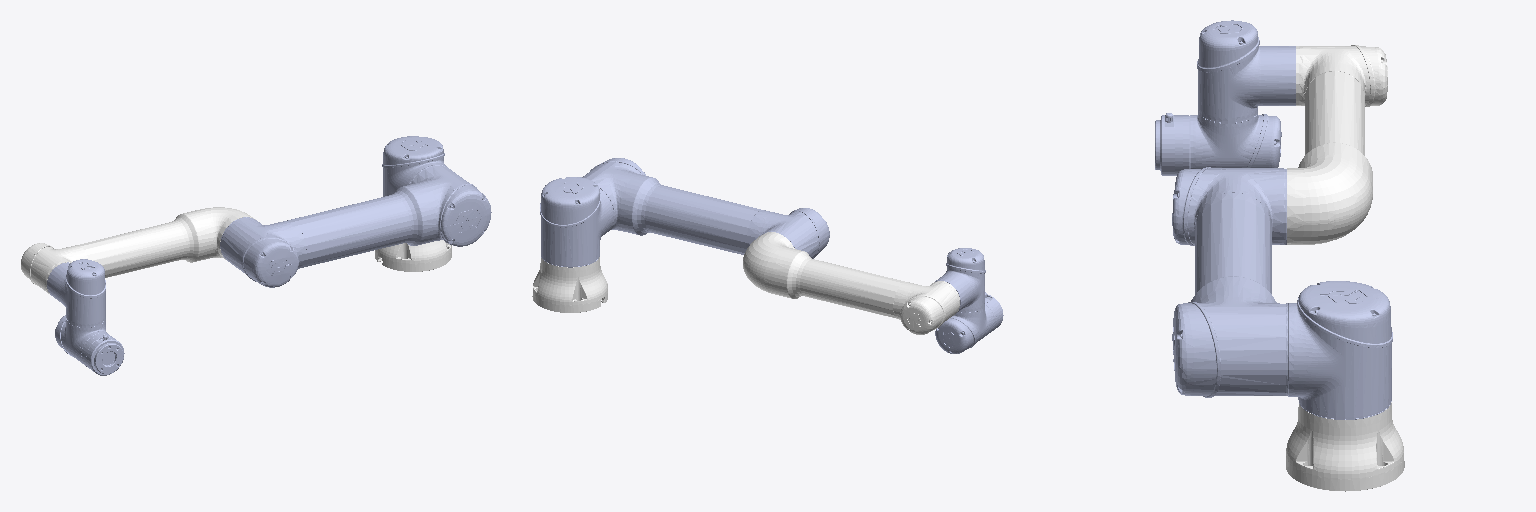
robot.urdf — cs66_arm_description:
<?xml version="1.0" encoding="utf-8" ?>
<!-- This URDF was automatically created by SolidWorks to URDF Exporter! Originally created by Stephen Brawner (brawner@gmail.com) 
     Commit Version: 1.6.0-4-g7f85cfe  Build Version: 1.6.7995.38578
     For more information, please see http://wiki.ros.org/sw_urdf_exporter -->
<robot name="cs66_arm_description">
    <link name="base_link">
        <inertial>
            <origin xyz="0.000819468476140757 -0.000383331154322179 0.0602207031159537" rpy="0 0 0" />
            <mass value="0.571272633732224" />
            <inertia ixx="0.00107590375281414" ixy="7.51573344437863E-08" ixz="-1.32176933719106E-05" iyy="0.0010108603582184" iyz="4.56446618386002E-07" izz="0.00140801940459219" />
        </inertial>
        <visual>
            <origin xyz="0 0 0" rpy="0 0 0" />
            <geometry>
                <mesh filename="package://cs66_arm_description/meshes/base_link.STL" />
            </geometry>
            <material name="">
                <color rgba="1 1 1 1" />
            </material>
        </visual>
        <collision>
            <origin xyz="0 0 0" rpy="0 0 0" />
            <geometry>
                <mesh filename="package://cs66_arm_description/meshes/base_link.STL" />
            </geometry>
        </collision>
    </link>
    <link name="Link_1">
        <inertial>
            <origin xyz="-5.44817498106031E-06 -0.00772422182270346 0.0673914563996951" rpy="0 0 0" />
            <mass value="1.79218632427574" />
            <inertia ixx="0.00486412365192174" ixy="-4.76280041712477E-08" ixz="6.02229532119392E-07" iyy="0.00450066793287147" iyz="4.41397887471483E-05" izz="0.00366028536387867" />
        </inertial>
        <visual>
            <origin xyz="0 0 0" rpy="0 0 0" />
            <geometry>
                <mesh filename="package://cs66_arm_description/meshes/Link_1.STL" />
            </geometry>
            <material name="">
                <color rgba="0.792156862745098 0.819607843137255 0.933333333333333 1" />
            </material>
        </visual>
        <collision>
            <origin xyz="0 0 0" rpy="0 0 0" />
            <geometry>
                <mesh filename="package://cs66_arm_description/meshes/Link_1.STL" />
            </geometry>
        </collision>
    </link>
    <joint name="joint_1" type="continuous">
        <origin xyz="0.00142315112976313 -0.000397461372316405 0.0959999923210443" rpy="0 0 0" />
        <parent link="base_link" />
        <child link="Link_1" />
        <axis xyz="0 0 1" />
    </joint>
    <link name="Link_2">
        <inertial>
            <origin xyz="-0.189304749779043 4.12457812803968E-06 0.0673436646185289" rpy="0 0 0" />
            <mass value="5.26083251074483" />
            <inertia ixx="0.00986127044062744" ixy="-1.96188156562952E-06" ixz="0.000398582240348831" iyy="0.150013165511853" iyz="-4.28700825556125E-07" izz="0.147760972442848" />
        </inertial>
        <visual>
            <origin xyz="0 0 0" rpy="0 0 0" />
            <geometry>
                <mesh filename="package://cs66_arm_description/meshes/Link_2.STL" />
            </geometry>
            <material name="">
                <color rgba="0.792156862745098 0.819607843137255 0.933333333333333 1" />
            </material>
        </visual>
        <collision>
            <origin xyz="0 0 0" rpy="0 0 0" />
            <geometry>
                <mesh filename="package://cs66_arm_description/meshes/Link_2.STL" />
            </geometry>
        </collision>
    </link>
    <joint name="joint_2" type="continuous">
        <origin xyz="0 -0.0744999923210443 0.0665000000000001" rpy="1.5707963267949 0 0" />
        <parent link="Link_1" />
        <child link="Link_2" />
        <axis xyz="0 0 1" />
    </joint>
    <link name="Link_3">
        <inertial>
            <origin xyz="-0.182694891807572 2.46133946837923E-06 -0.0583572427029055" rpy="0 0 0" />
            <mass value="2.7291609666202" />
            <inertia ixx="0.00305708688537011" ixy="-1.12586051820532E-06" ixz="-0.00265416681508017" iyy="0.0588372414004559" iyz="9.21680134133082E-08" izz="0.0582264071329576" />
        </inertial>
        <visual>
            <origin xyz="0 0 0" rpy="0 0 0" />
            <geometry>
                <mesh filename="package://cs66_arm_description/meshes/Link_3.STL" />
            </geometry>
            <material name="">
                <color rgba="1 1 1 1" />
            </material>
        </visual>
        <collision>
            <origin xyz="0 0 0" rpy="0 0 0" />
            <geometry>
                <mesh filename="package://cs66_arm_description/meshes/Link_3.STL" />
            </geometry>
        </collision>
    </link>
    <joint name="joint_3" type="continuous">
        <origin xyz="-0.427 0 -0.000700000000000062" rpy="0 0 0" />
        <parent link="Link_2" />
        <child link="Link_3" />
        <axis xyz="0 0 -1" />
    </joint>
    <link name="Link_4">
        <inertial>
            <origin xyz="1.78181839216585E-06 0.00475921552085332 0.0664196029768327" rpy="0 0 0" />
            <mass value="0.751687617432452" />
            <inertia ixx="0.00142457870934458" ixy="-8.98336116714318E-08" ixz="-1.84239576005656E-08" iyy="0.00107758626595783" iyz="-5.88720985481688E-05" izz="0.000907375014852144" />
        </inertial>
        <visual>
            <origin xyz="0 0 0" rpy="0 0 0" />
            <geometry>
                <mesh filename="package://cs66_arm_description/meshes/Link_4.STL" />
            </geometry>
            <material name="">
                <color rgba="0.792156862745098 0.819607843137255 0.933333333333333 1" />
            </material>
        </visual>
        <collision>
            <origin xyz="0 0 0" rpy="0 0 0" />
            <geometry>
                <mesh filename="package://cs66_arm_description/meshes/Link_4.STL" />
            </geometry>
        </collision>
    </link>
    <joint name="joint_4" type="continuous">
        <origin xyz="-0.3905 0 -0.0118000000000002" rpy="0 0 0" />
        <parent link="Link_3" />
        <child link="Link_4" />
        <axis xyz="0 0 -1" />
    </joint>
    <link name="Link_5">
        <inertial>
            <origin xyz="-2.69080810966216E-06 -0.00617558030727594 0.0425309128156526" rpy="0 0 0" />
            <mass value="0.579305281070416" />
            <inertia ixx="0.000833552143214783" ixy="-8.65440171172211E-08" ixz="-3.35593094932508E-09" iyy="0.000491632907771888" iyz="8.38962008905905E-06" izz="0.000777854785881557" />
        </inertial>
        <visual>
            <origin xyz="0 0 0" rpy="0 0 0" />
            <geometry>
                <mesh filename="package://cs66_arm_description/meshes/Link_5.STL" />
            </geometry>
            <material name="">
                <color rgba="0.792156862745098 0.819607843137255 0.933333333333333 1" />
            </material>
        </visual>
        <collision>
            <origin xyz="0 0 0" rpy="0 0 0" />
            <geometry>
                <mesh filename="package://cs66_arm_description/meshes/Link_5.STL" />
            </geometry>
        </collision>
    </link>
    <joint name="joint_5" type="continuous">
        <origin xyz="0 -0.0490000000000001 0.0854999999999999" rpy="1.5707963267949 0 0" />
        <parent link="Link_4" />
        <child link="Link_5" />
        <axis xyz="0 0 -1" />
    </joint>
    <link name="Link_6">
        <inertial>
            <origin xyz="-1.62861057972918E-10 -0.000150247411436794 0.0198932547747776" rpy="0 0 0" />
            <mass value="0.178606323427537" />
            <inertia ixx="8.73395638411235E-05" ixy="7.66356443266492E-13" ixz="5.92450494701795E-13" iyy="8.81103451063962E-05" iyz="2.1464395295935E-07" izz="0.000126746769992653" />
        </inertial>
        <visual>
            <origin xyz="0 0 0" rpy="0 0 0" />
            <geometry>
                <mesh filename="package://cs66_arm_description/meshes/Link_6.STL" />
            </geometry>
            <material name="">
                <color rgba="0.792156862745098 0.819607843137255 0.933333333333333 1" />
            </material>
        </visual>
        <collision>
            <origin xyz="0 0 0" rpy="0 0 0" />
            <geometry>
                <mesh filename="package://cs66_arm_description/meshes/Link_6.STL" />
            </geometry>
        </collision>
    </link>
    <joint name="joint_6" type="continuous">
        <origin xyz="0 0.049 0.0475" rpy="-1.5707963267949 0 0" />
        <parent link="Link_5" />
        <child link="Link_6" />
        <axis xyz="0 0 -1" />
    </joint>
    <link name="ee_link" />
    <joint name="joint_ee_fixed" type="fixed">
        <origin xyz="0 0 -0.03" rpy="0 0 0" />
        <parent link="Link_6" />
        <child link="ee_link" />
    </joint>
    <transmission name="trans_joint_1">
        <type>transmission_interface/SimpleTransmission</type>
        <joint name="joint_1">
            <hardwareInterface>hardware_interface/EffortJointInterface</hardwareInterface>
        </joint>
        <actuator name="joint_1_motor">
            <hardwareInterface>hardware_interface/EffortJointInterface</hardwareInterface>
            <mechanicalReduction>1</mechanicalReduction>
        </actuator>
    </transmission>
    <transmission name="trans_joint_2">
        <type>transmission_interface/SimpleTransmission</type>
        <joint name="joint_2">
            <hardwareInterface>hardware_interface/EffortJointInterface</hardwareInterface>
        </joint>
        <actuator name="joint_2_motor">
            <hardwareInterface>hardware_interface/EffortJointInterface</hardwareInterface>
            <mechanicalReduction>1</mechanicalReduction>
        </actuator>
    </transmission>
    <transmission name="trans_joint_3">
        <type>transmission_interface/SimpleTransmission</type>
        <joint name="joint_3">
            <hardwareInterface>hardware_interface/EffortJointInterface</hardwareInterface>
        </joint>
        <actuator name="joint_3_motor">
            <hardwareInterface>hardware_interface/EffortJointInterface</hardwareInterface>
            <mechanicalReduction>1</mechanicalReduction>
        </actuator>
    </transmission>
    <transmission name="trans_joint_4">
        <type>transmission_interface/SimpleTransmission</type>
        <joint name="joint_4">
            <hardwareInterface>hardware_interface/EffortJointInterface</hardwareInterface>
        </joint>
        <actuator name="joint_4_motor">
            <hardwareInterface>hardware_interface/EffortJointInterface</hardwareInterface>
            <mechanicalReduction>1</mechanicalReduction>
        </actuator>
    </transmission>
    <transmission name="trans_joint_5">
        <type>transmission_interface/SimpleTransmission</type>
        <joint name="joint_5">
            <hardwareInterface>hardware_interface/EffortJointInterface</hardwareInterface>
        </joint>
        <actuator name="joint_5_motor">
            <hardwareInterface>hardware_interface/EffortJointInterface</hardwareInterface>
            <mechanicalReduction>1</mechanicalReduction>
        </actuator>
    </transmission>
    <transmission name="trans_joint_6">
        <type>transmission_interface/SimpleTransmission</type>
        <joint name="joint_6">
            <hardwareInterface>hardware_interface/EffortJointInterface</hardwareInterface>
        </joint>
        <actuator name="joint_6_motor">
            <hardwareInterface>hardware_interface/EffortJointInterface</hardwareInterface>
            <mechanicalReduction>1</mechanicalReduction>
        </actuator>
    </transmission>
    <gazebo>
        <plugin name="gazebo_ros_control" filename="libgazebo_ros_control.so">
            <robotNamespace>/</robotNamespace>
        </plugin>
    </gazebo>
</robot>

--- What the picture shows (computed from the rendered views, not written in the file) ---
3 views of the same robot in one strip: view 1: azimuth 30°, elevation 25°; view 2: azimuth 150°, elevation 25°; view 3: azimuth 270°, elevation 25° (orthographic).
Model cs66_arm_description with 8 links and 7 joints (6 continuous, 1 fixed), rooted at base_link, posed every joint at zero.
Visible links, largest first — view 1: Link_2, Link_3, Link_4, Link_1, base_link, Link_6, Link_5; view 2: Link_2, Link_3, Link_1, base_link, Link_4, Link_5; view 3: Link_2, Link_3, Link_1, Link_4, base_link, Link_5, Link_6.
Boxes of the visible links, bbox=[...] form: Link_2: bbox=[220, 165, 491, 287]; Link_3: bbox=[21, 207, 255, 293]; Link_4: bbox=[47, 259, 105, 327]; Link_1: bbox=[382, 136, 446, 196]; base_link: bbox=[375, 240, 451, 271]; Link_6: bbox=[82, 333, 124, 375]; Link_5: bbox=[55, 315, 107, 366]; Link_2: bbox=[582, 158, 829, 258]; Link_3: bbox=[743, 232, 959, 334]; Link_1: bbox=[540, 177, 613, 267]; base_link: bbox=[532, 257, 607, 312]; Link_4: bbox=[935, 248, 985, 312]; Link_5: bbox=[935, 304, 994, 353]; Link_2: bbox=[1172, 167, 1288, 397]; Link_3: bbox=[1287, 45, 1387, 244]; Link_1: bbox=[1289, 281, 1392, 419]; Link_4: bbox=[1197, 20, 1295, 123]; base_link: bbox=[1286, 402, 1404, 491]; Link_5: bbox=[1190, 113, 1281, 168]; Link_6: bbox=[1155, 113, 1189, 175].
Bounding box of the posed robot: 0.9322 × 0.3144 × 0.2397 m (x, y, z).
Meshes: 7 distinct files referenced, 7 mesh visuals loaded (7 binary STL).
